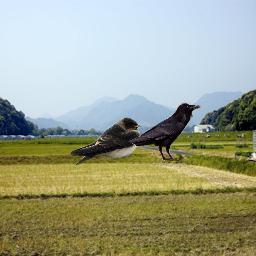Crow: (128, 101, 201, 161)
Swallow: (70, 117, 142, 166)
